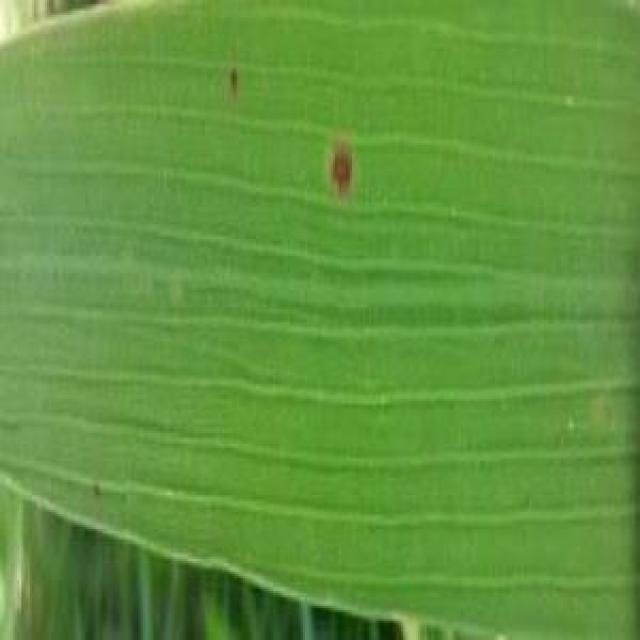Brown_Spot: (316, 141, 367, 199), (214, 64, 248, 96)
